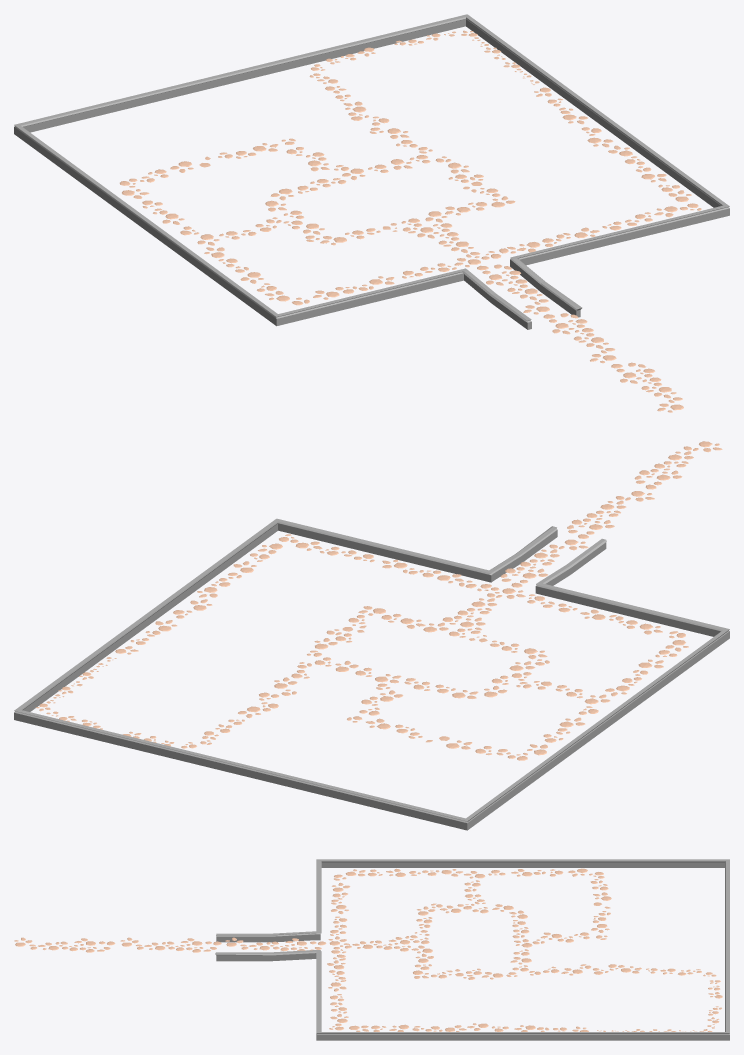
Rendered from Path_Level_1.fbx.
3 views of the same model, one above another, from view 1: azimuth 30°, elevation 25°; view 2: azimuth 150°, elevation 25°; view 3: azimuth 270°, elevation 25° (orthographic). The views are drawn at different scales.
Parts seen in each view (by area): view 1: Pad Level 1; view 2: Pad Level 1; view 3: Pad Level 1.
Part boxes in pixels (left/top/right/bottom): Pad Level 1: left=14, top=14, right=729, bottom=412; Pad Level 1: left=14, top=441, right=729, bottom=830; Pad Level 1: left=14, top=859, right=729, bottom=1040.
Bounding box in the file's own units: 10251 × 262 × 17804.
